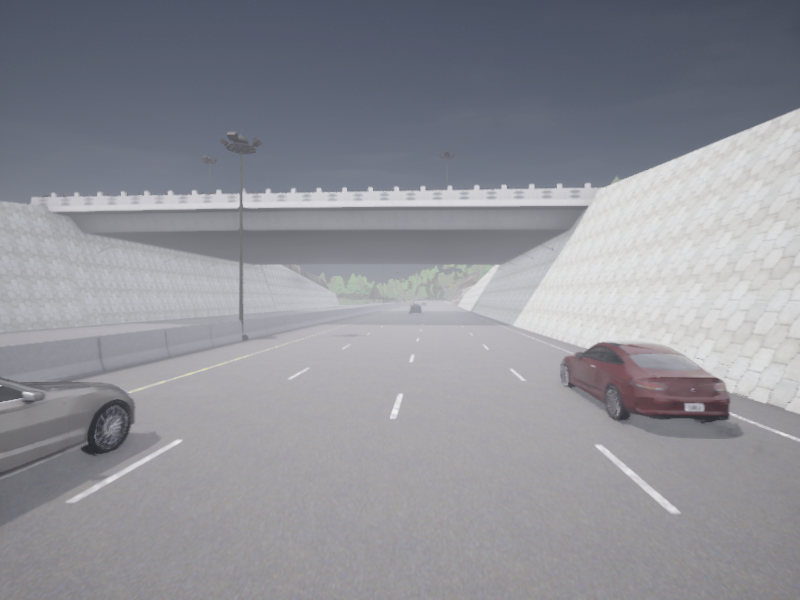vehicle: (561, 341, 730, 422), (0, 377, 133, 479), (410, 304, 421, 313), (409, 302, 414, 306), (421, 302, 426, 305)
